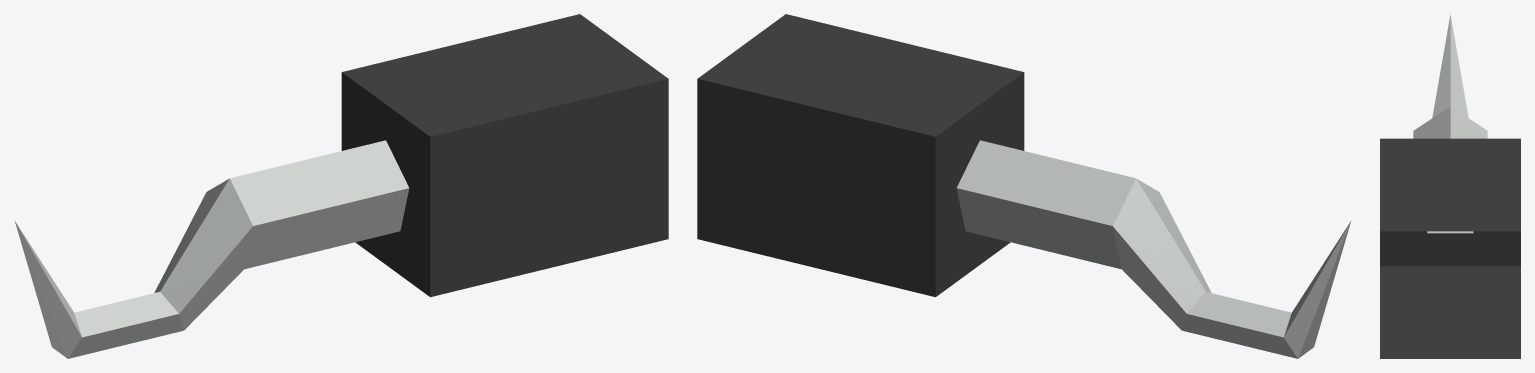
File: climb_hook.fbx
The picture shows the model from 3 angles, left to right: view 1: azimuth 30°, elevation 25°; view 2: azimuth 150°, elevation 25°; view 3: azimuth 270°, elevation 25°; orthographic projection. The views are drawn at different scales.
Parts seen in each view (by area): view 1: pCylinder20; view 2: pCylinder20; view 3: pCylinder20.
Part boxes in pixels (x1,y1,x2,y2): pCylinder20: [14, 14, 668, 358]; pCylinder20: [697, 14, 1351, 358]; pCylinder20: [1380, 14, 1520, 358].
Size of the model in its own units: 2.54 by 0.6731 by 0.6386.
Materials: 1 (1 with a texture image).
